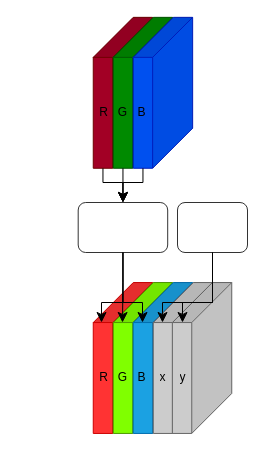
Image size: 265x452. Some labels were removed from this diagram. The centre of each missing label's shape, as x and y in pixels:
(x, y) positions: the point at 212,227
Data augmentation: the point at 122,227
